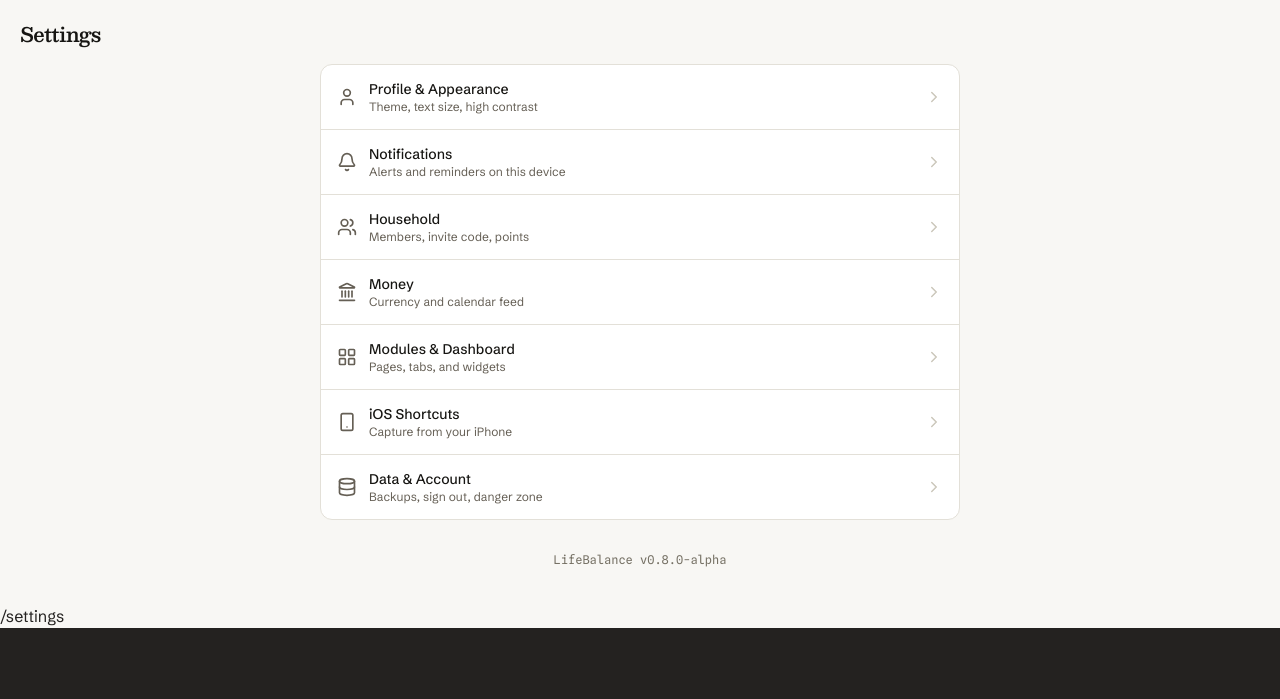
Test case: Settings index + sub-screens › keeps Delete Household only in the Data & Account danger zone
expect the text "Delete Household" is not shown: met
Note: …not in the Household sub-screen…
Click the text "Household": point(405, 219) [369,210,440,228]
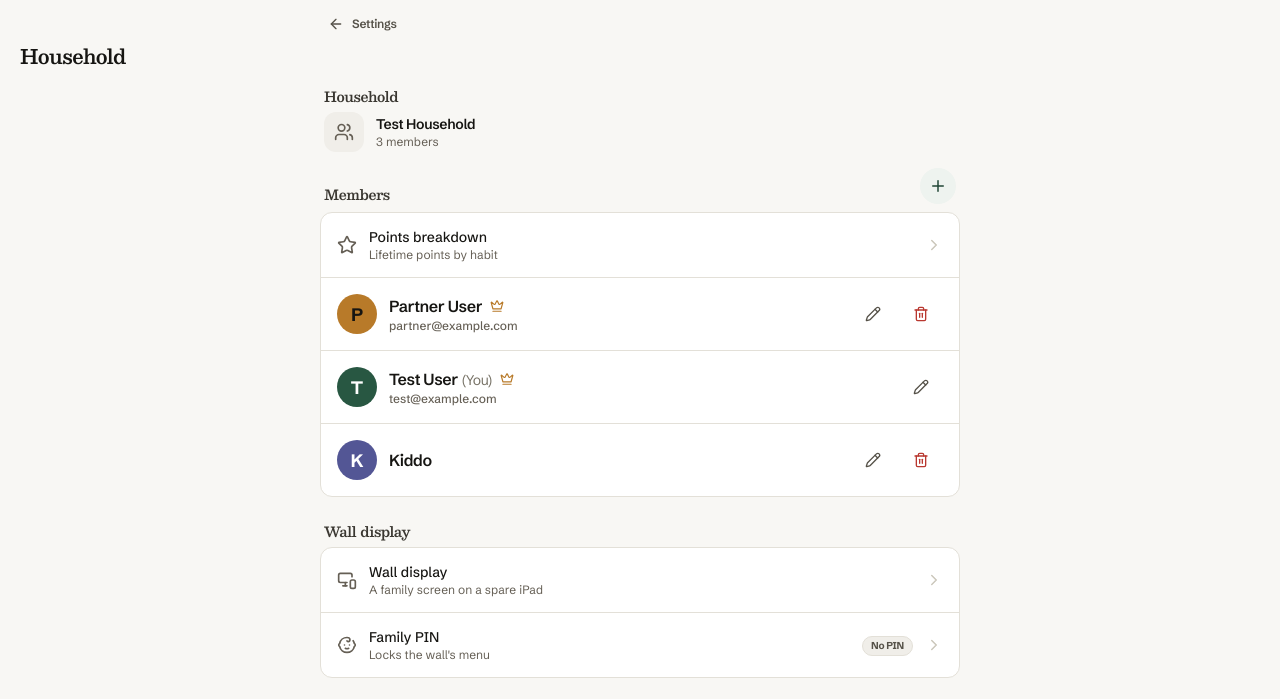
expect the text "Delete Household" is not shown: met
Click the button with aria-label "back to settings": point(362, 24) [316,12,409,36]
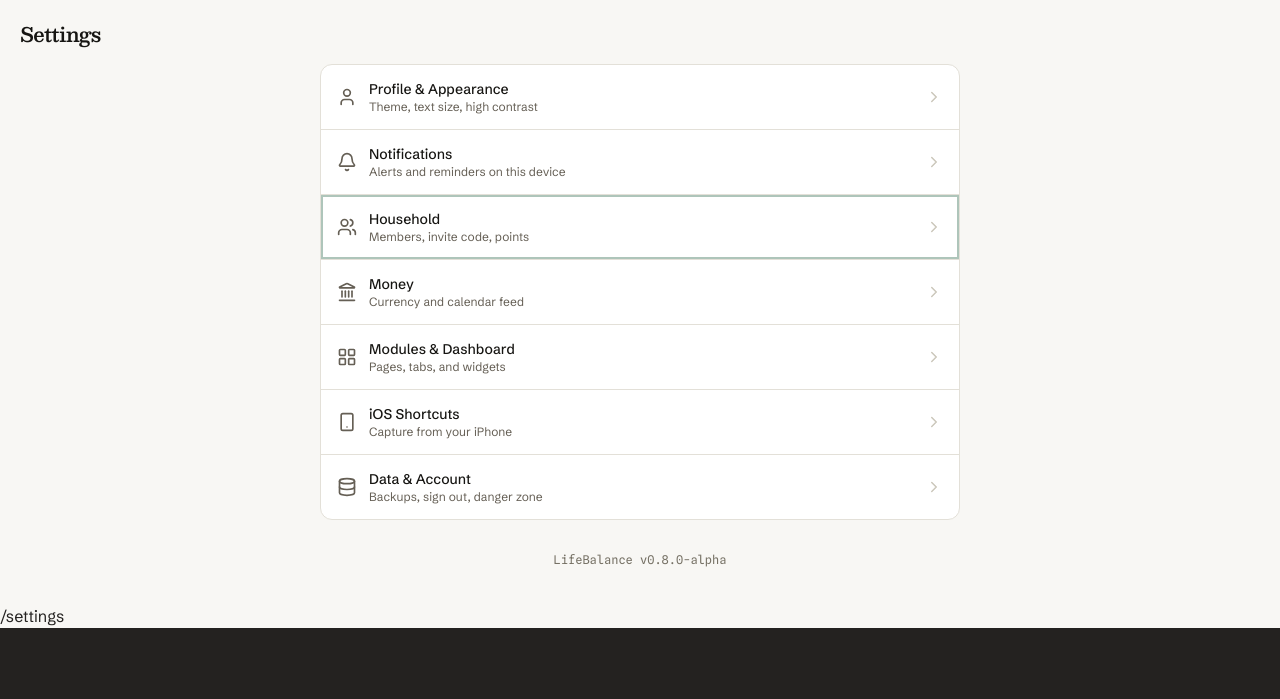
Note: …only in Data & Account, under the separated Danger Zone group.
Click the text "Data & Account": point(420, 479) [369,470,471,488]
(page scrolled)
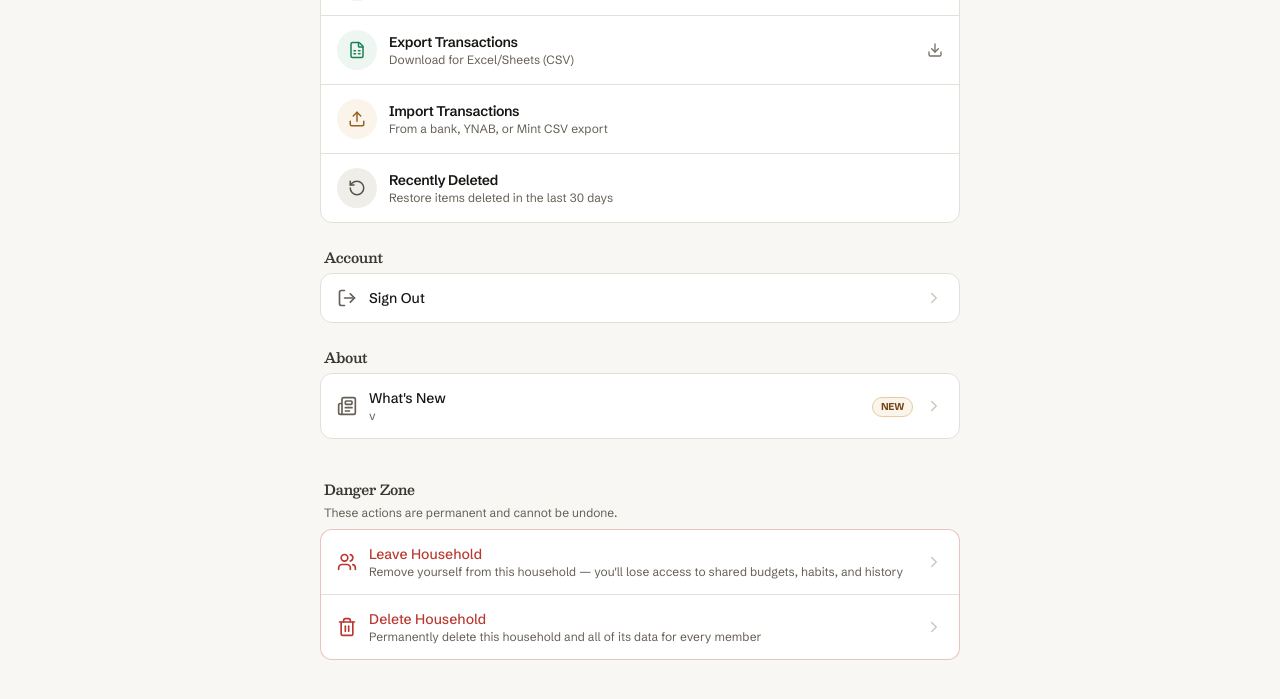
expect the heading "Danger Zone" is shown: met, box [324,479,415,499]
expect the text "Delete Household" is shown: met, box [369,610,486,628]
expect the text "Leave Household" is shown: met, box [369,545,482,563]
